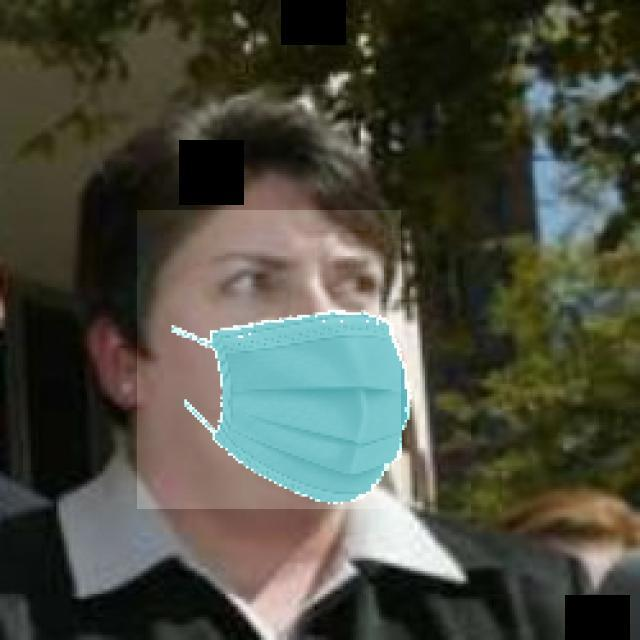surgical: (137, 210, 401, 509)
